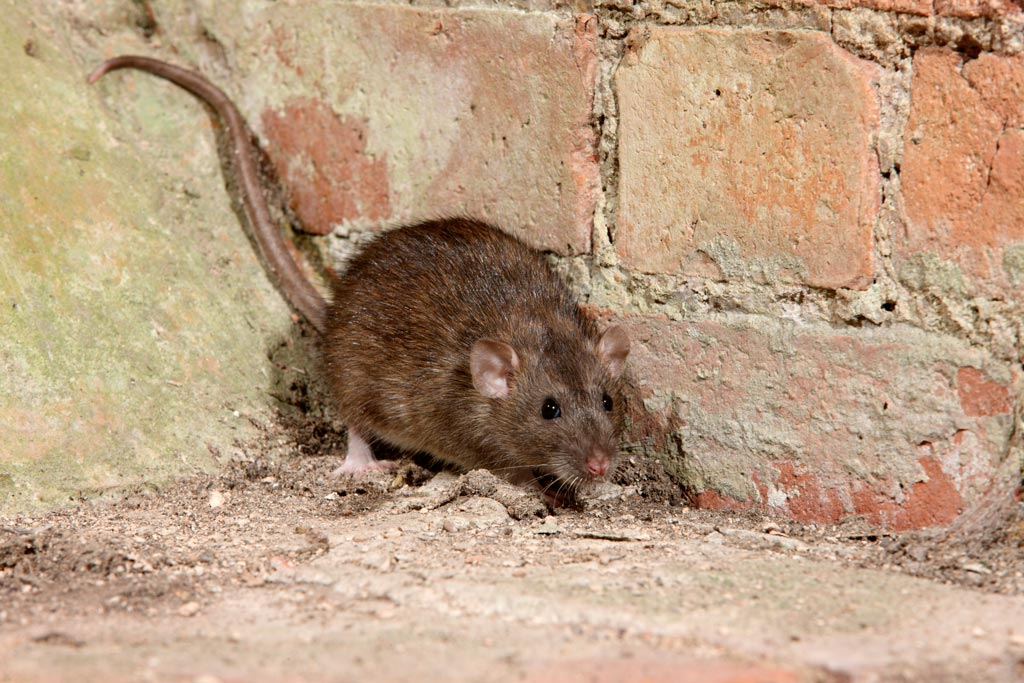rat: (205, 159, 653, 529)
